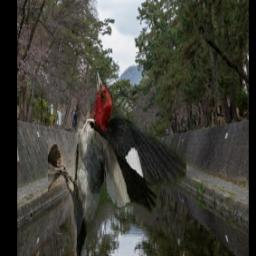Woodpecker: (47, 68, 185, 256)
